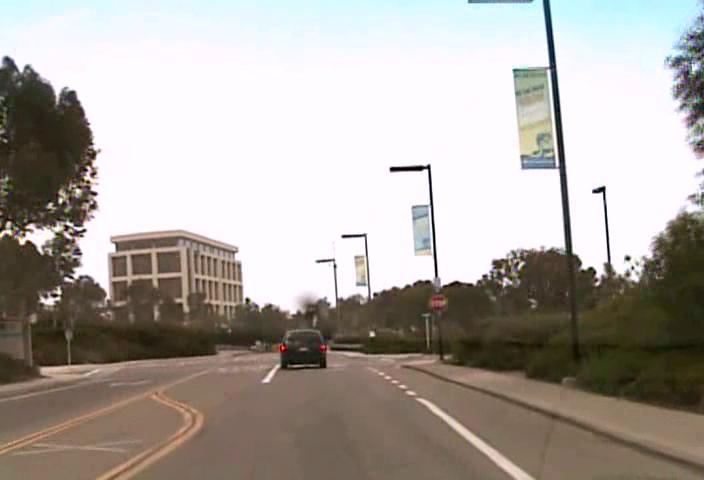stop: (428, 293, 448, 313)
